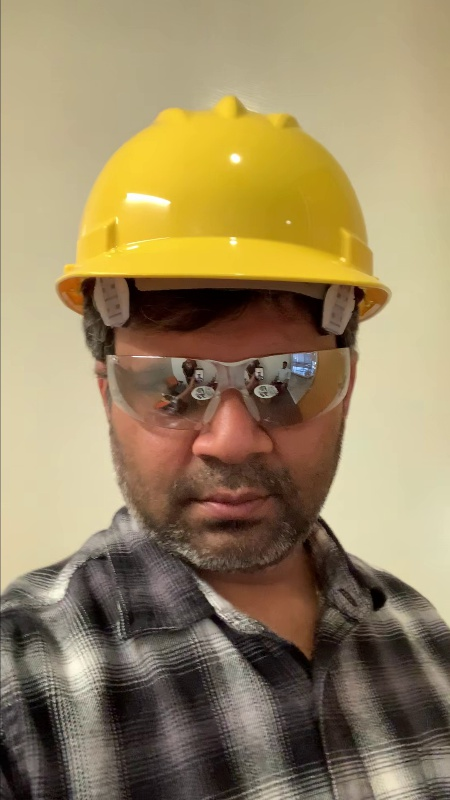glasses: (99, 345, 366, 428)
helmet: (42, 92, 406, 331)
